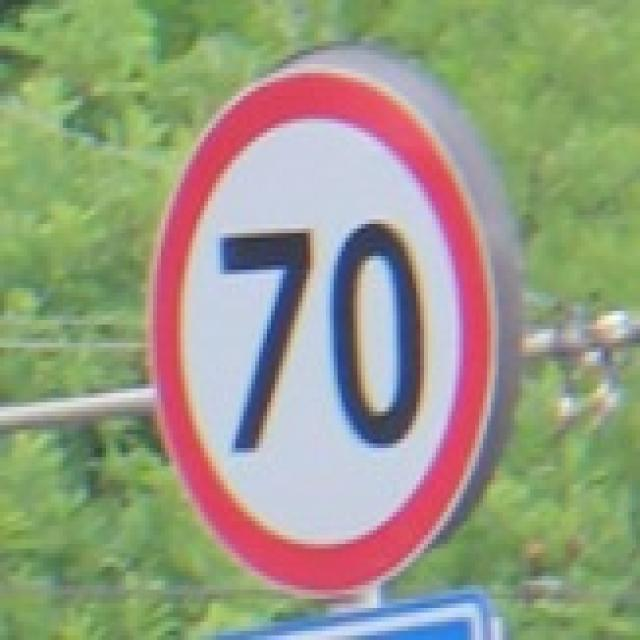Speed Limit -70-: (216, 217, 428, 457)
